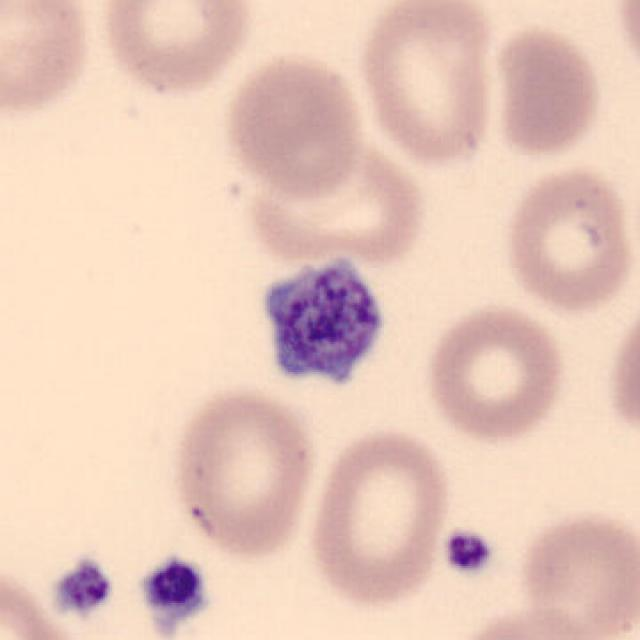Platelets: (250, 248, 390, 396), (135, 552, 212, 636), (48, 556, 117, 620), (439, 524, 496, 580)
RBC: (302, 423, 455, 612), (167, 381, 320, 564), (240, 134, 430, 266), (353, 0, 501, 169), (219, 48, 368, 199), (421, 300, 569, 446), (499, 160, 636, 316), (514, 502, 638, 640), (484, 21, 604, 162), (94, 0, 257, 100), (0, 0, 98, 123), (0, 557, 87, 640), (439, 603, 622, 640), (604, 294, 640, 455), (608, 0, 640, 88)
